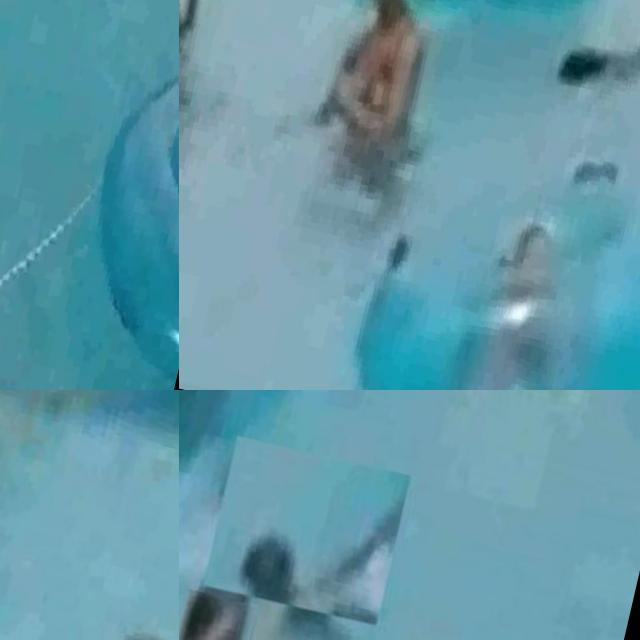drowning: (200, 434, 412, 626), (539, 0, 640, 144)
swimming: (305, 0, 473, 162), (179, 588, 261, 640)
